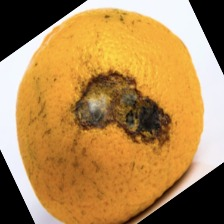orange: (18, 7, 215, 197)
